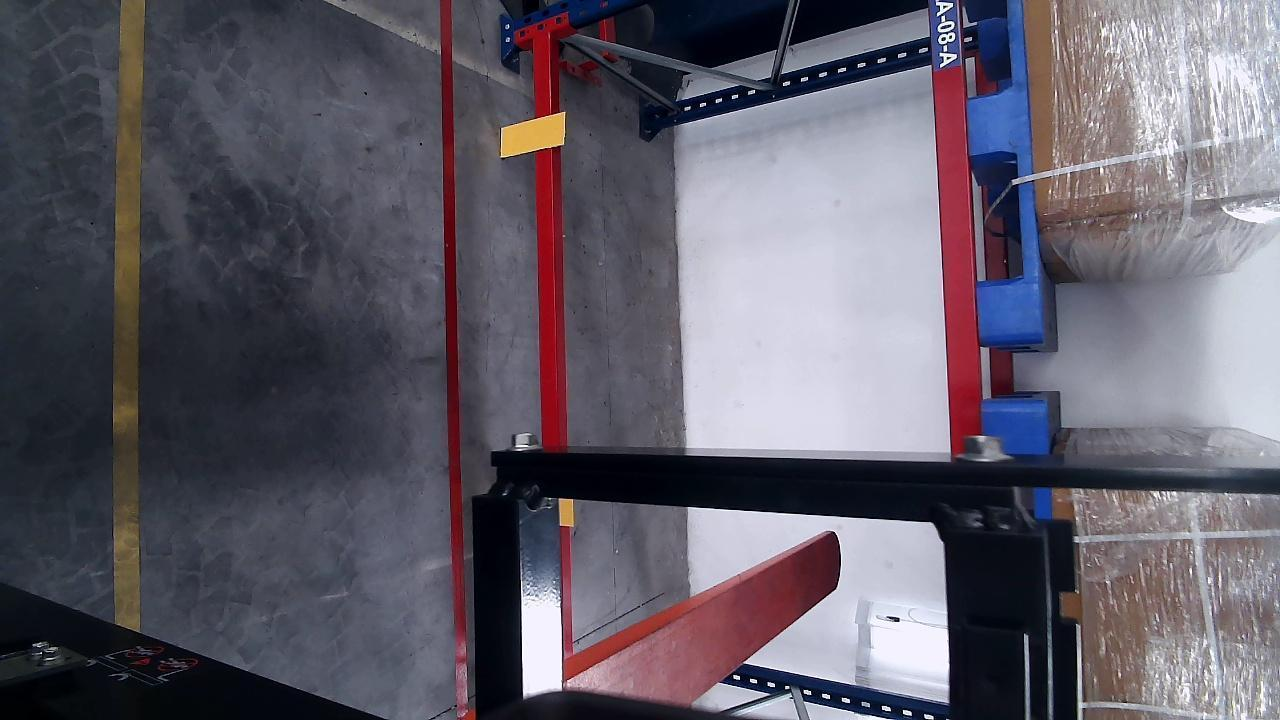red_line: (441, 1, 468, 716)
yellow_line: (116, 0, 146, 629)
